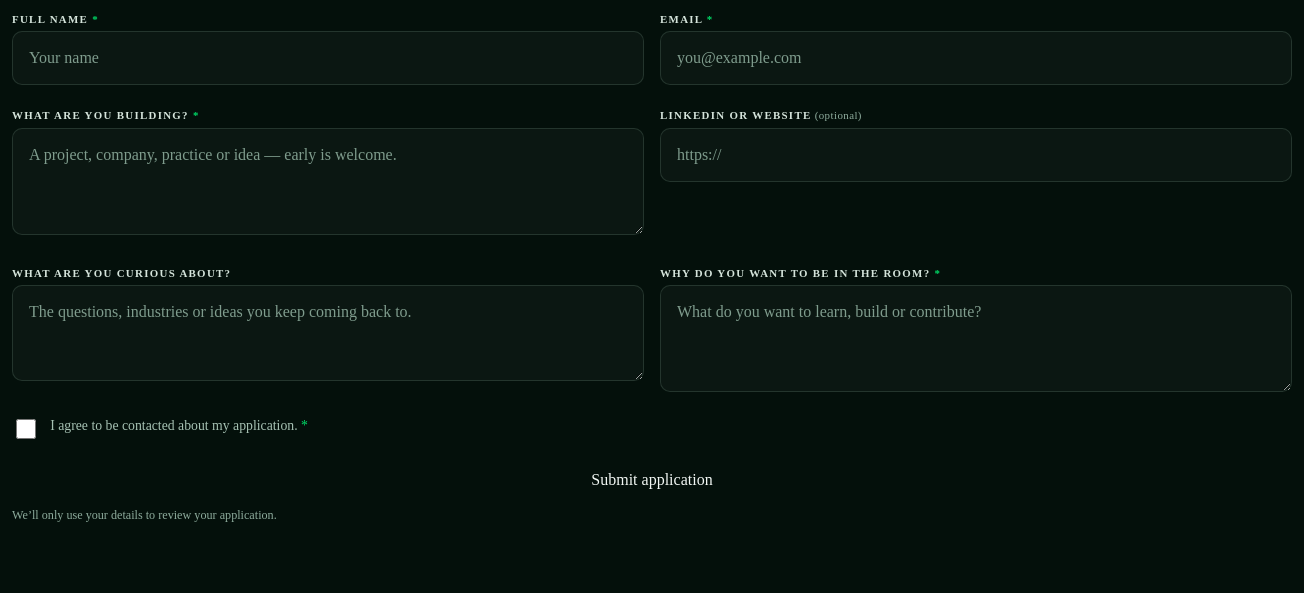
it: ApplicationForm › submits a valid application, resets the fields and announces success
This screenshot has width=1304, height=593.
Type "Ada Lovelace" into the field labelled "Full name *" at (328,58), box top-left (12, 31), bottom-right (644, 85)
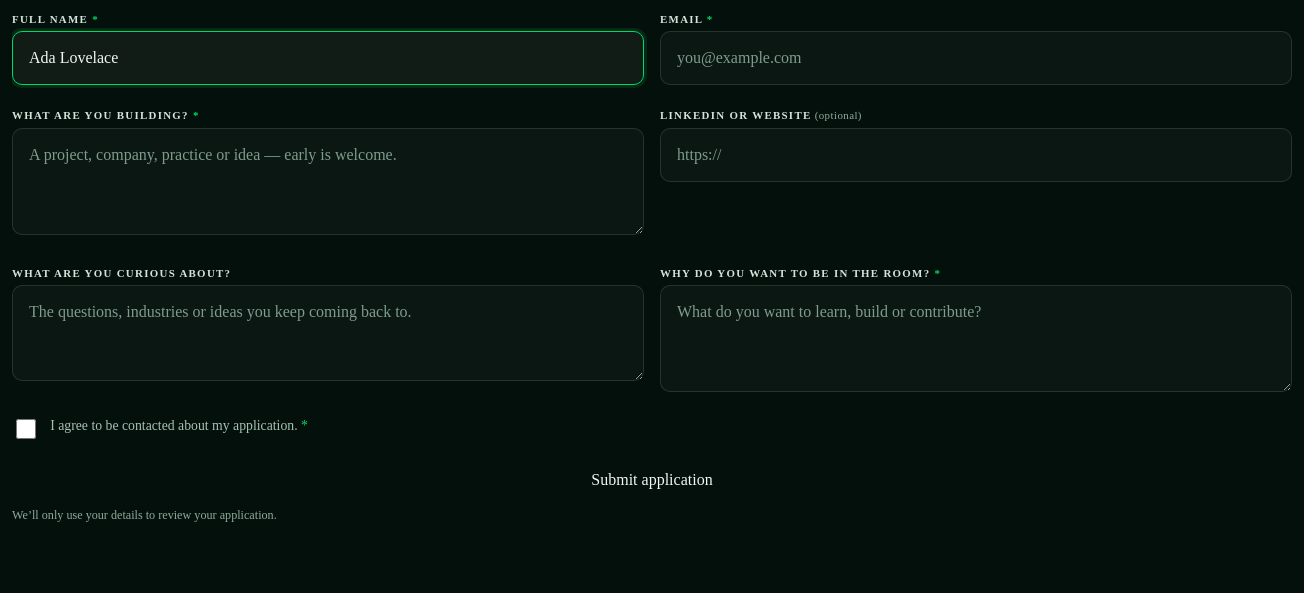
Type "ada@example.com" into the field labelled "Email *" at (976,58), box top-left (660, 31), bottom-right (1292, 85)
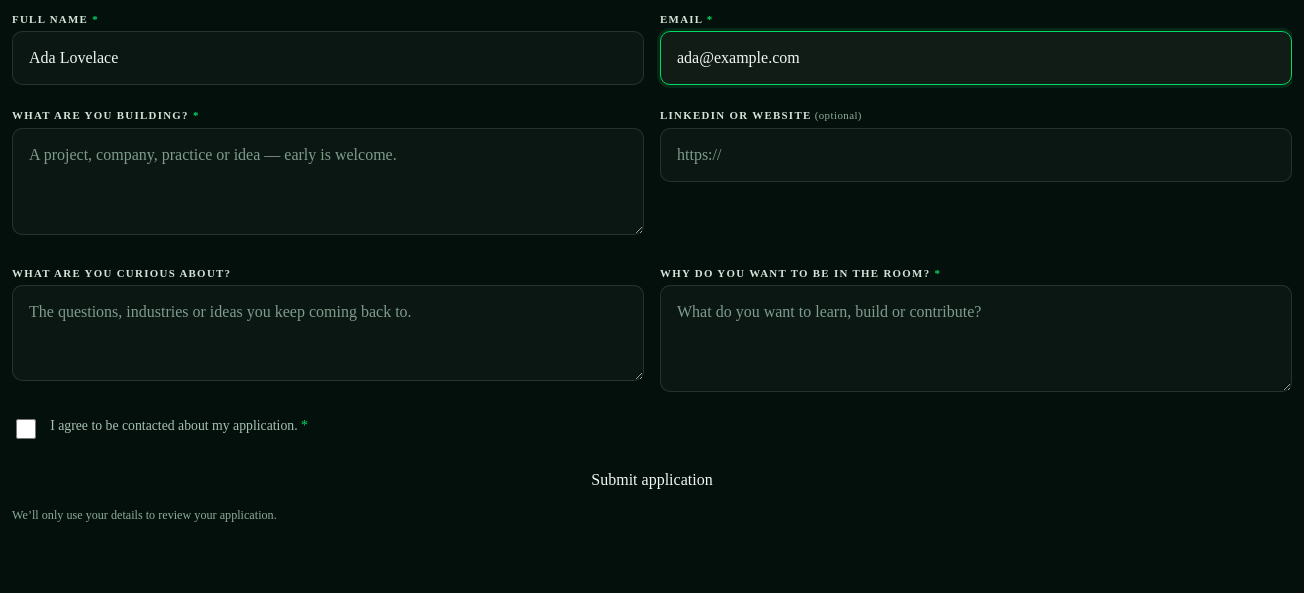
Type "A small studio building useful tools." into the text box labelled "What are you building? *" at (328,181), box top-left (12, 128), bottom-right (644, 235)
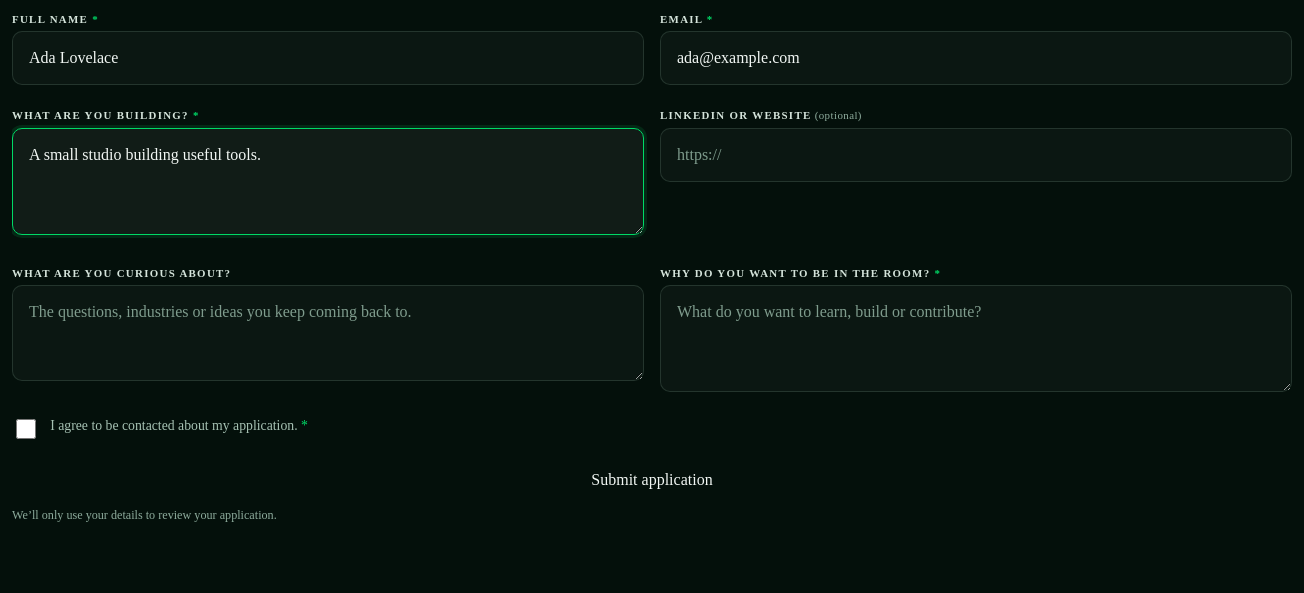
Type "I want to build alongside people who care about difficult, useful problems." into the text box labelled "Why do you want to be in the room? *" at (976,339), box top-left (660, 285), bottom-right (1292, 392)
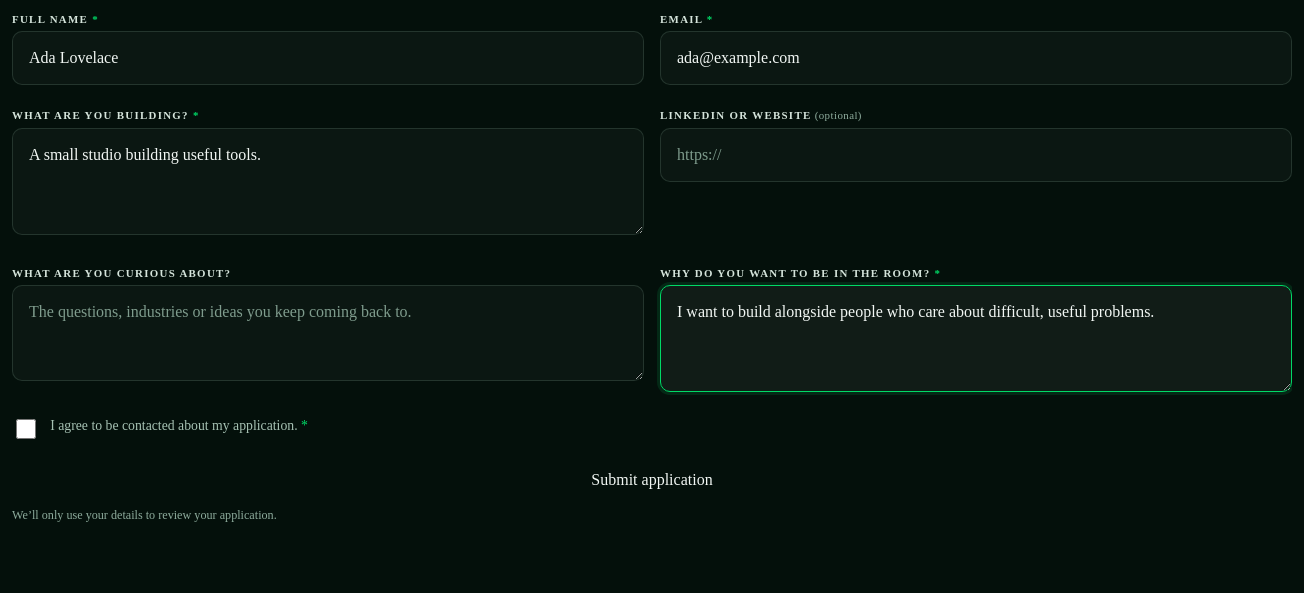
Click the checkbox labelled "I agree to be contacted about my application. *" at (26,429), box top-left (16, 419), bottom-right (36, 439)
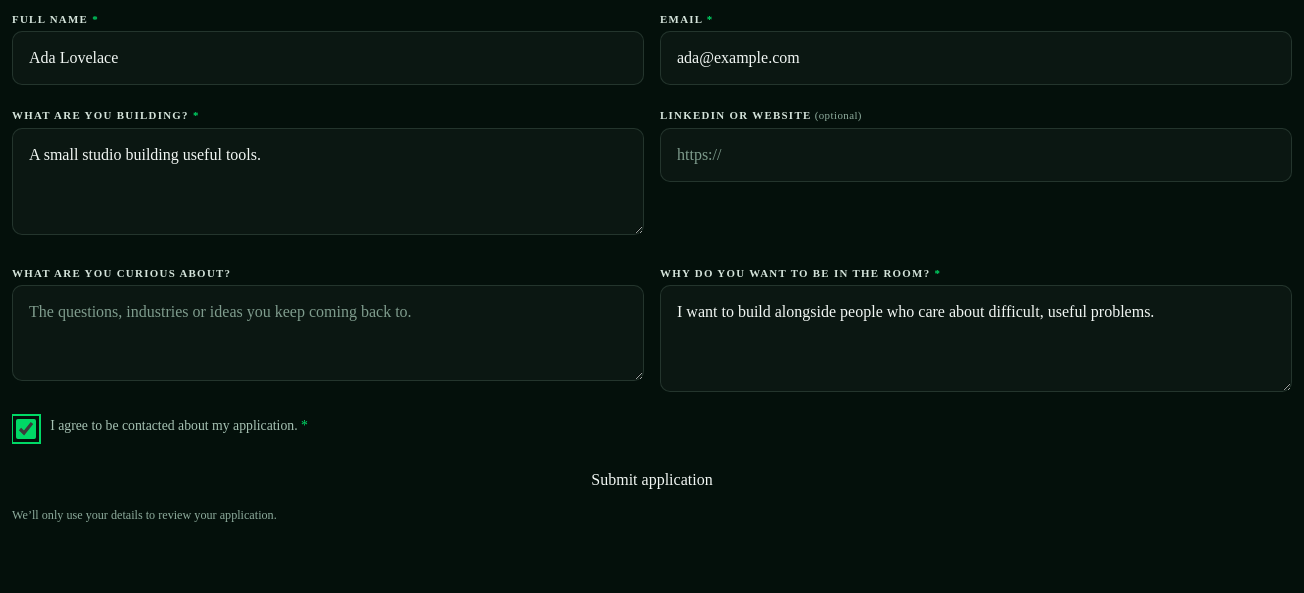
Click the button "Submit application" at (652,480), box top-left (12, 466), bottom-right (1292, 494)
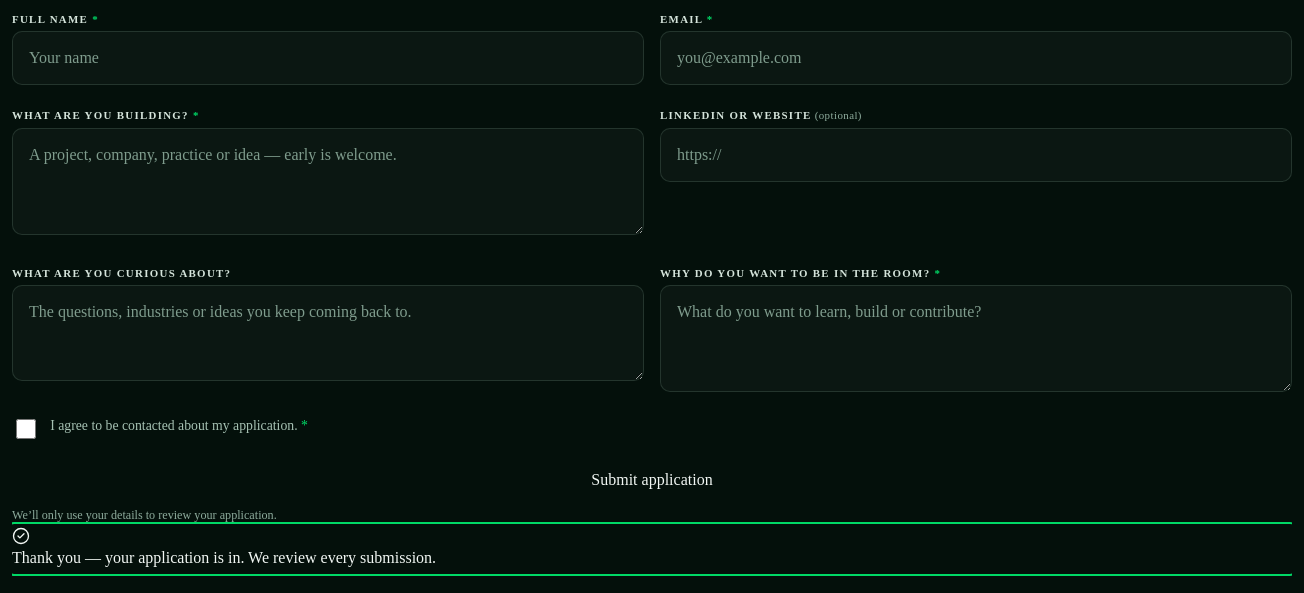
Now the checkbox labelled "I agree to be contacted about my application. *" is not checked, box top-left (16, 419), bottom-right (36, 439)
Now the message shows "Thank you — your application is in.", box top-left (12, 549), bottom-right (436, 566)
Now the field labelled "Full name *" is empty, box top-left (12, 31), bottom-right (644, 85)
